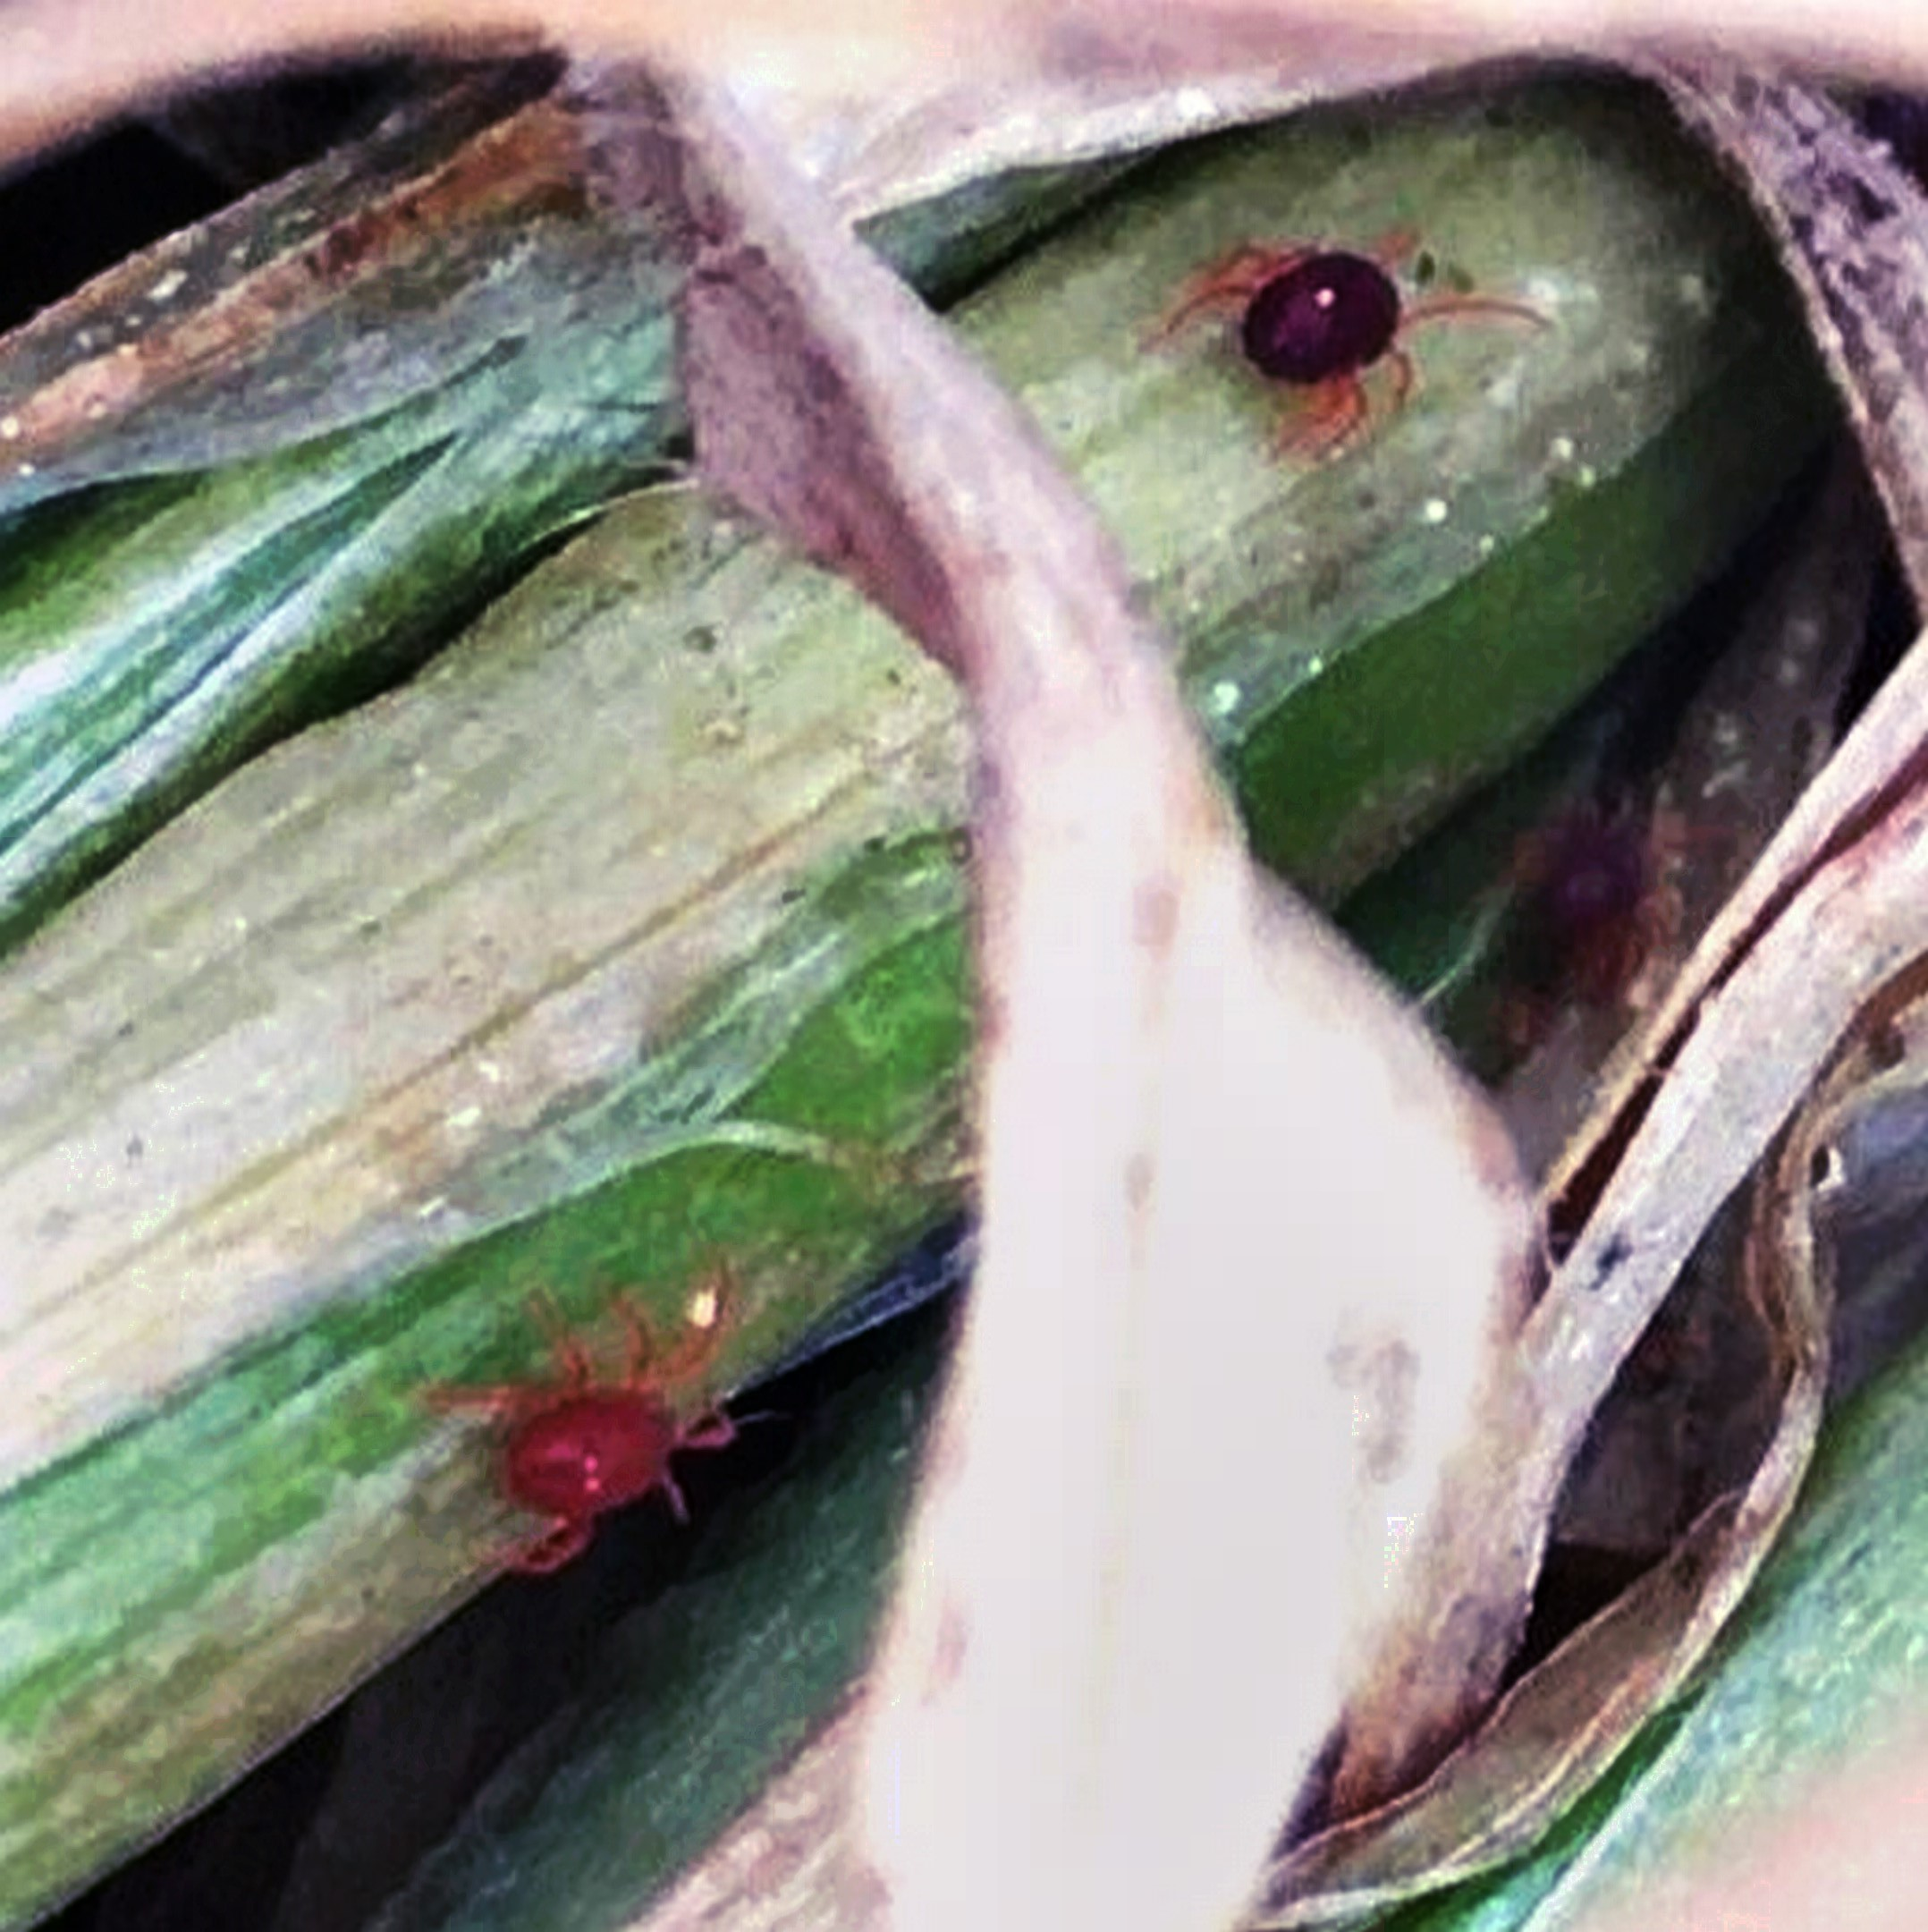Wheat Red Spider: (410, 1196, 782, 1600)
